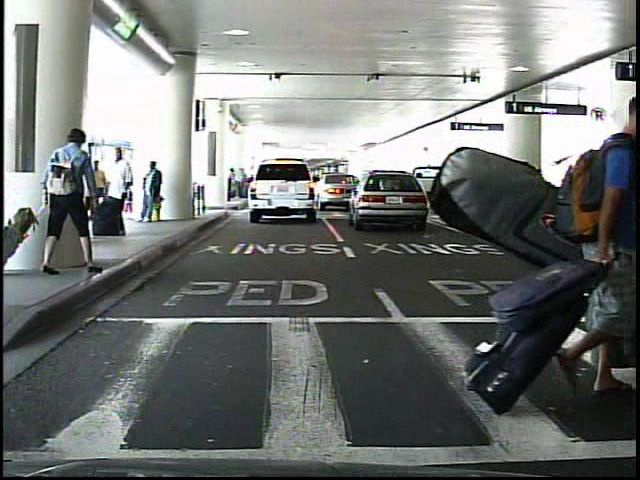person: (536, 88, 640, 393), (43, 127, 91, 277), (102, 146, 130, 239), (81, 158, 108, 233), (139, 159, 166, 226), (559, 164, 574, 213), (573, 168, 586, 212)
